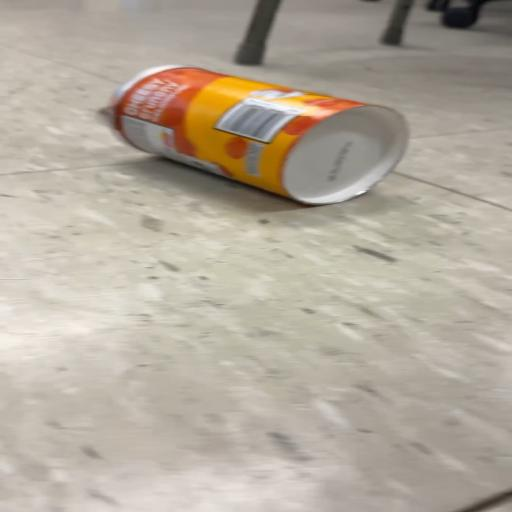pringles: (103, 66, 408, 204)
